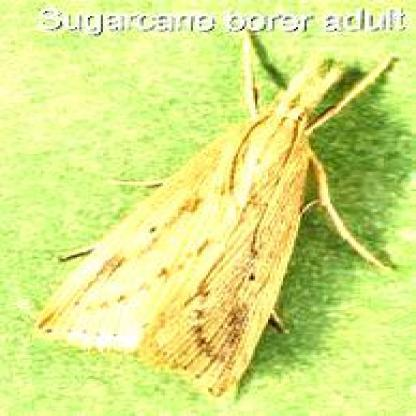stem-borer: (28, 40, 401, 405)
